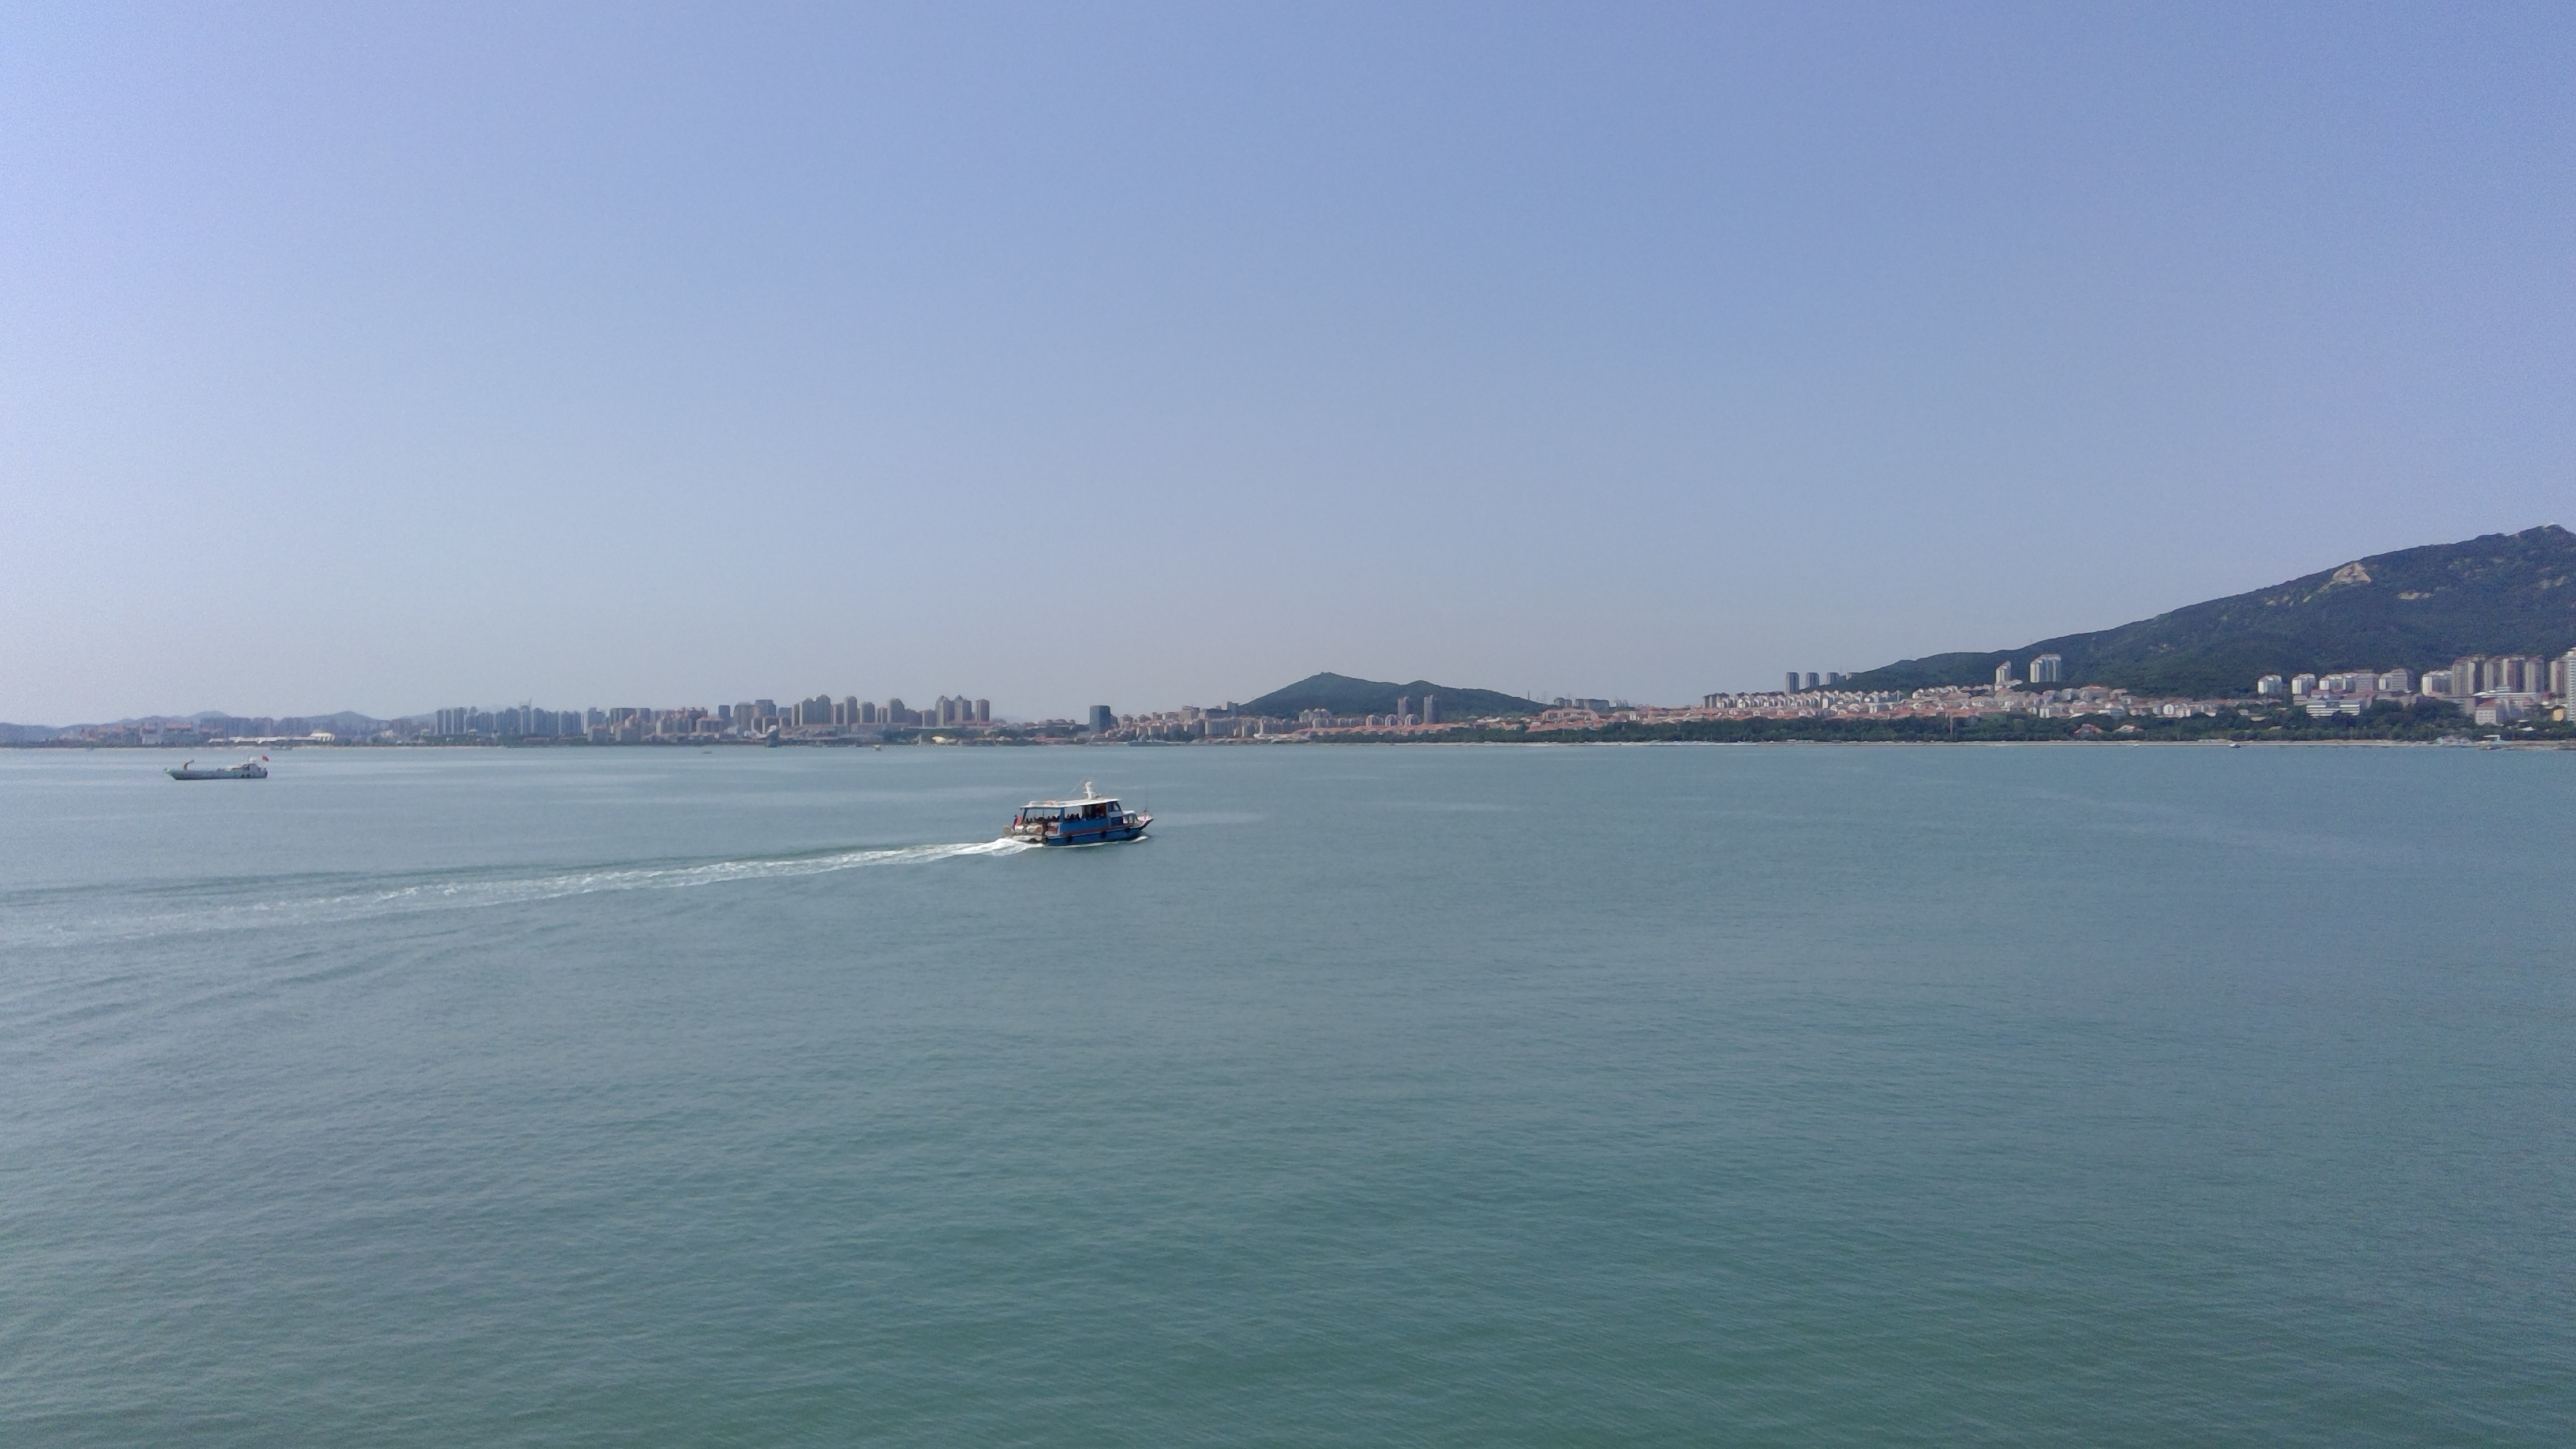ship: (1000, 778, 1164, 856), (161, 754, 276, 794)
